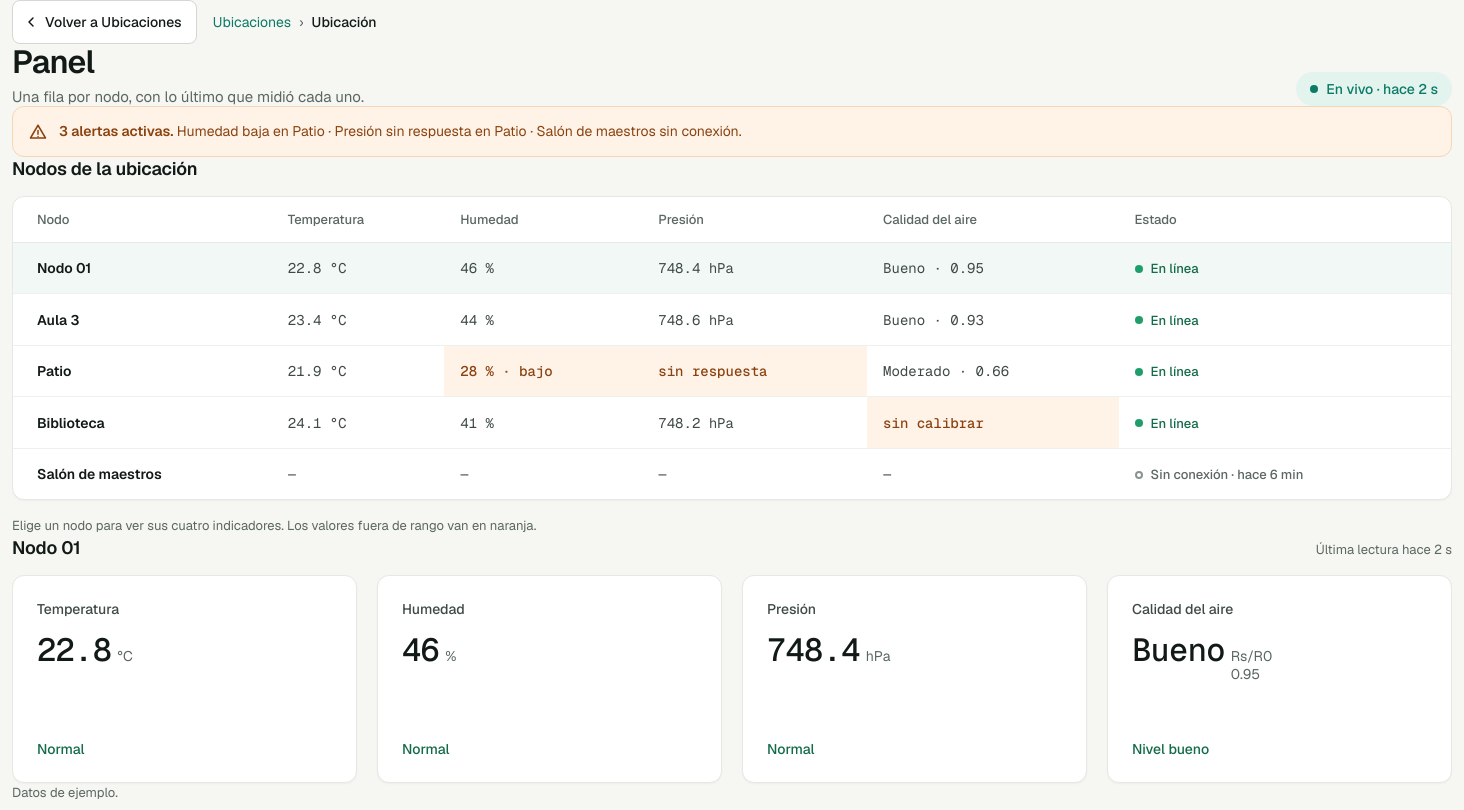
Scenario: Panel › muestra los cuatro indicadores del nodo elegido
expect the heading "Nodo 01" is shown: met, box [12,536,81,559]
Click the button "Patio".
click(54, 371)  # box [37,362,71,380]
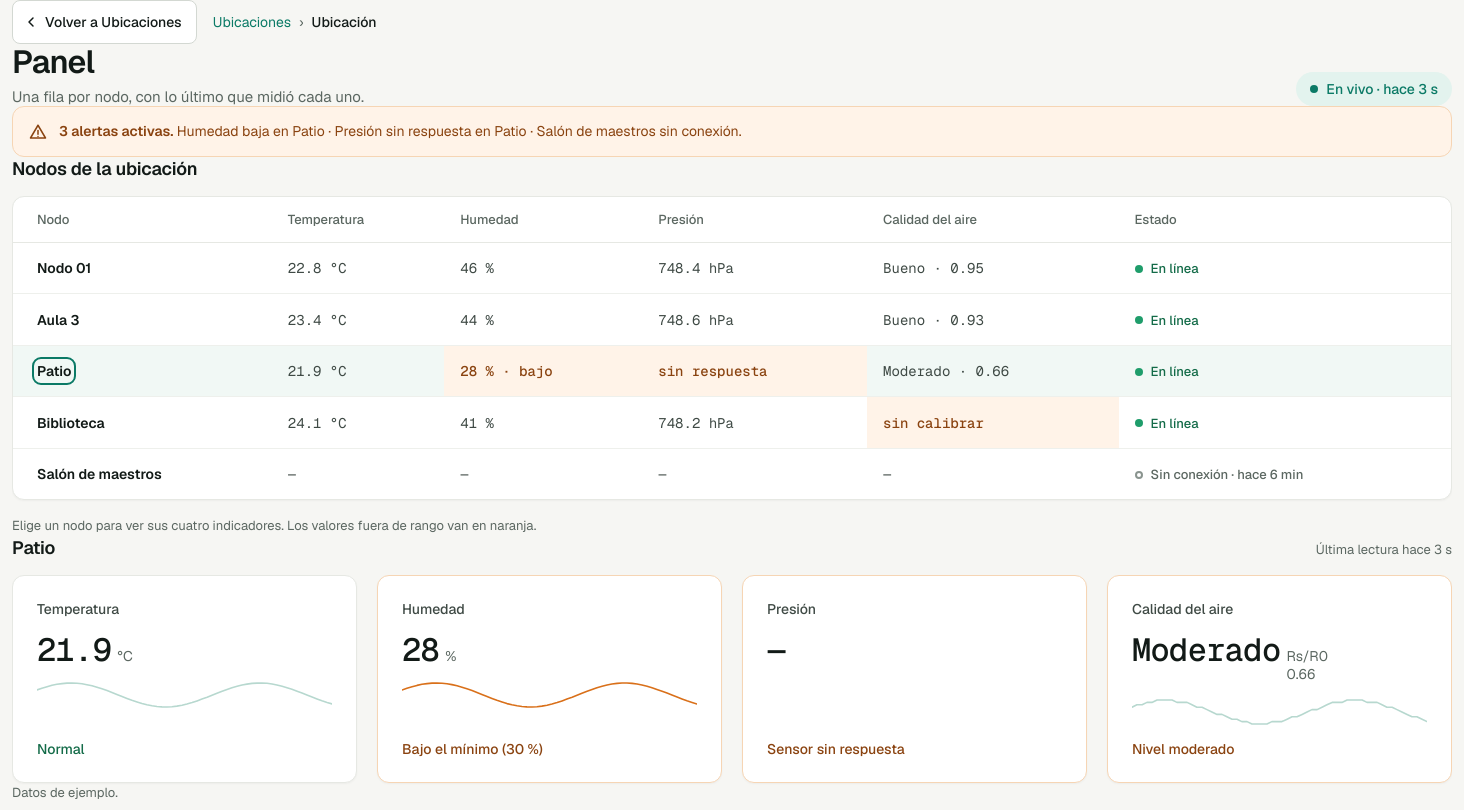
expect the text "Bajo el mínimo (30 %)" is shown: met, box [402,740,543,758]
expect the text "Sensor sin respuesta" is shown: met, box [767,740,905,758]
expect the text "Nivel moderado" is shown: met, box [1132,740,1234,758]
